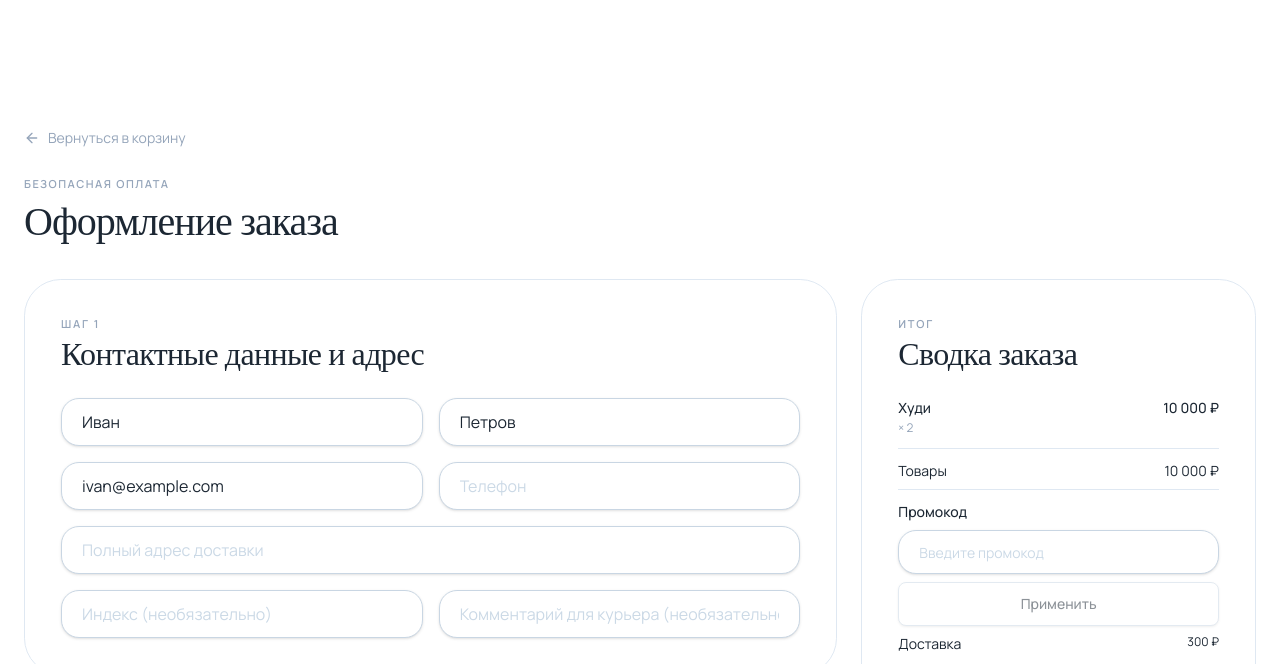
Test: Checkout promo code › removing the promo restores the full total
Type "SAVE10" into the field labelled "промокод" at [1059, 552], box [898,530,1219,574]
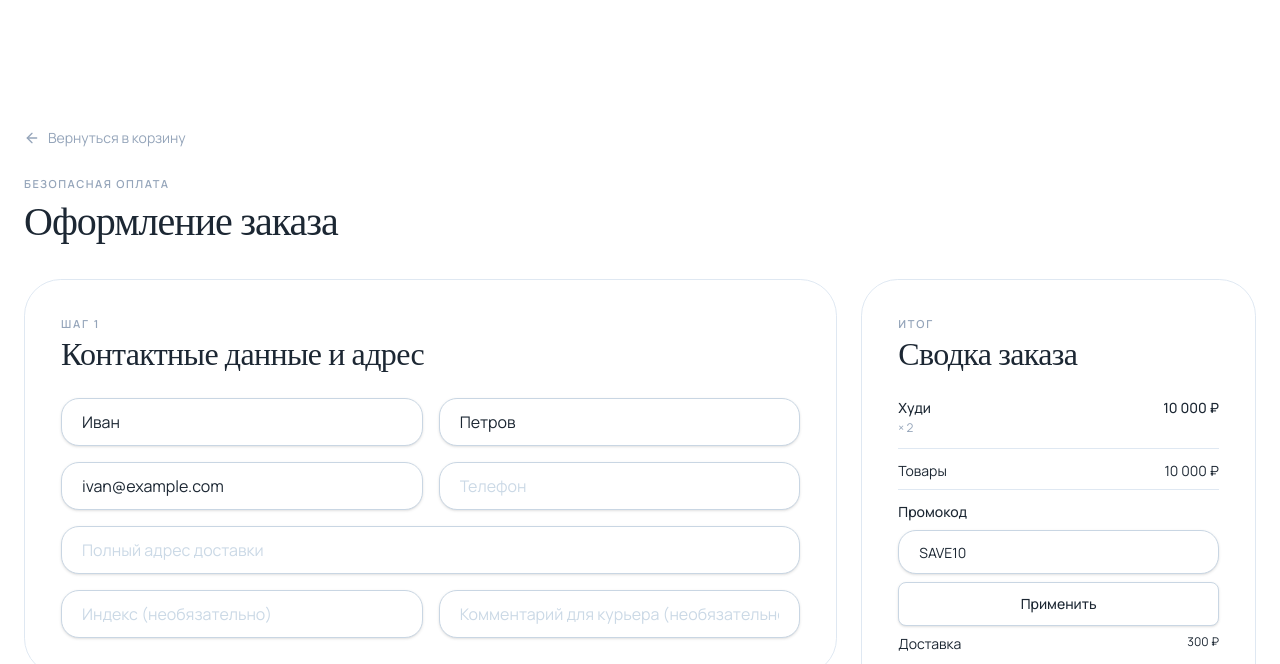
Click the button "Применить" at [1059, 604], box [898,582,1219,626]
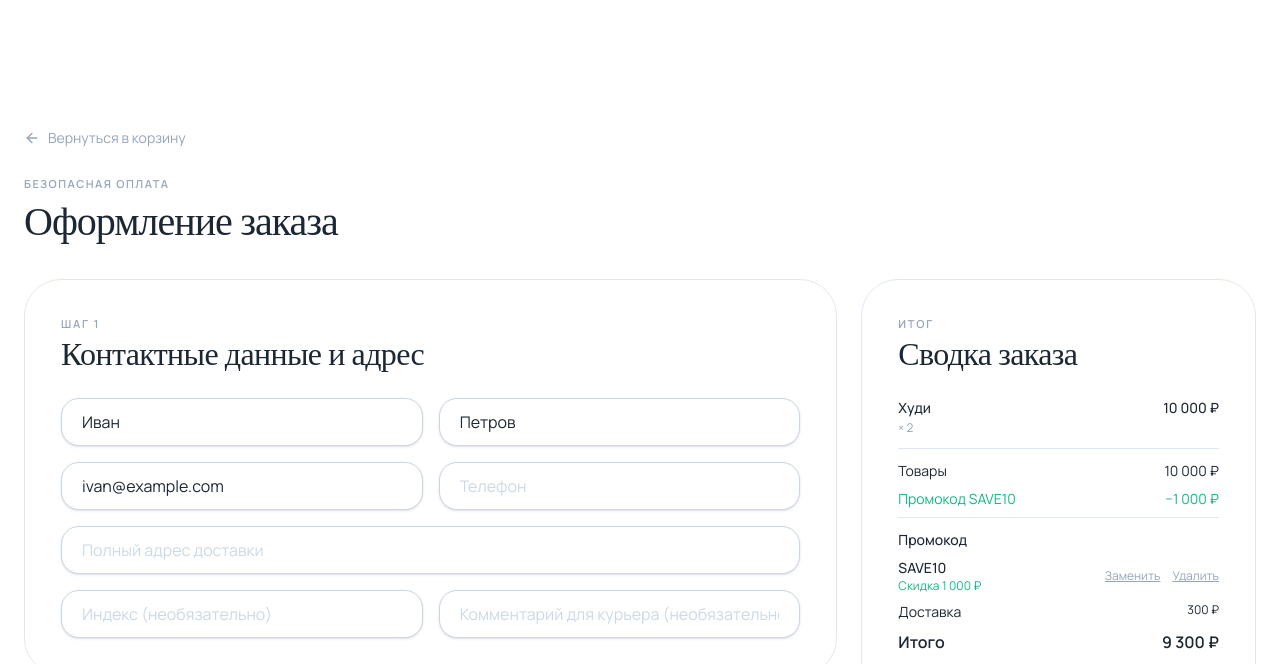
Result: the element with test id "checkout-promo-discount" is shown at [898,489,1219,509]
Click the button with aria-label "Удалить промокод SAVE10" at [1196, 576], box [1172,568,1219,584]
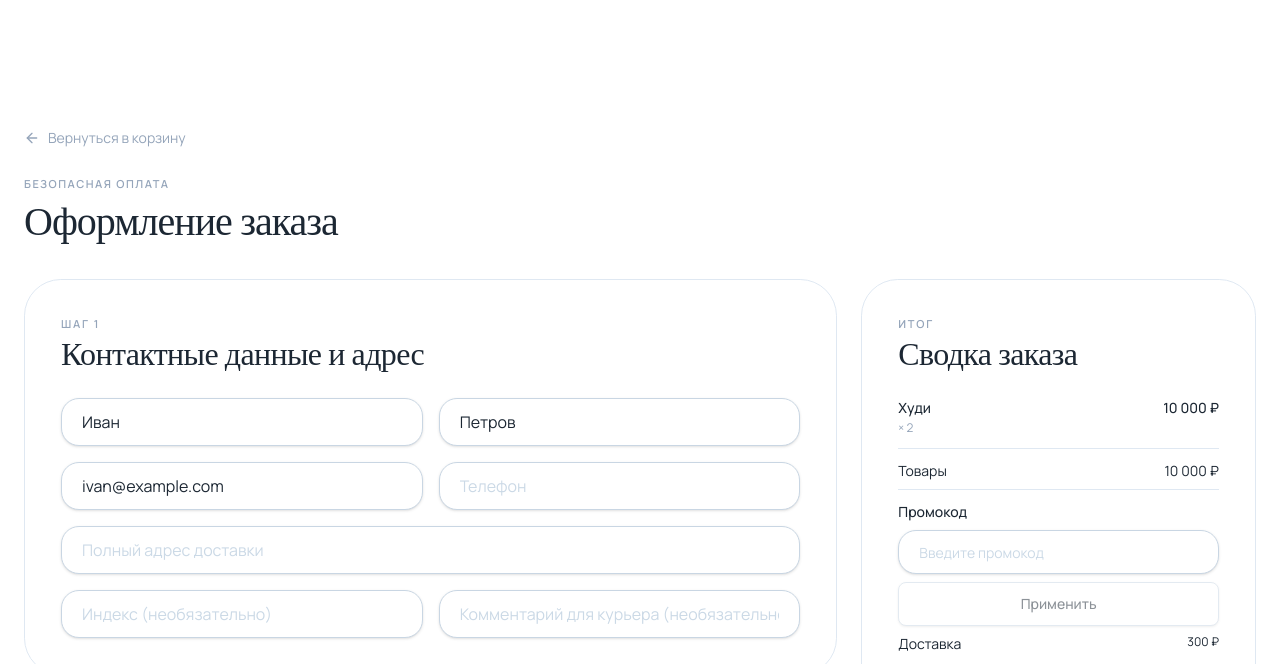
Result: the element with test id "checkout-promo-discount" is gone
